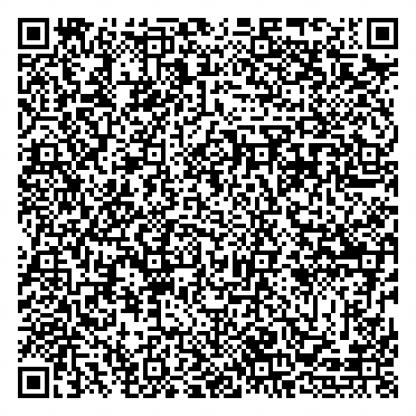qr: (14, 14, 401, 402)
